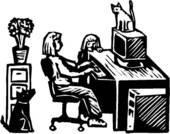cat: (107, 2, 136, 34)
dog: (1, 85, 38, 132)
person: (39, 29, 108, 127)
pottedplant: (5, 15, 34, 62)
tvmonitor: (109, 25, 150, 73)
